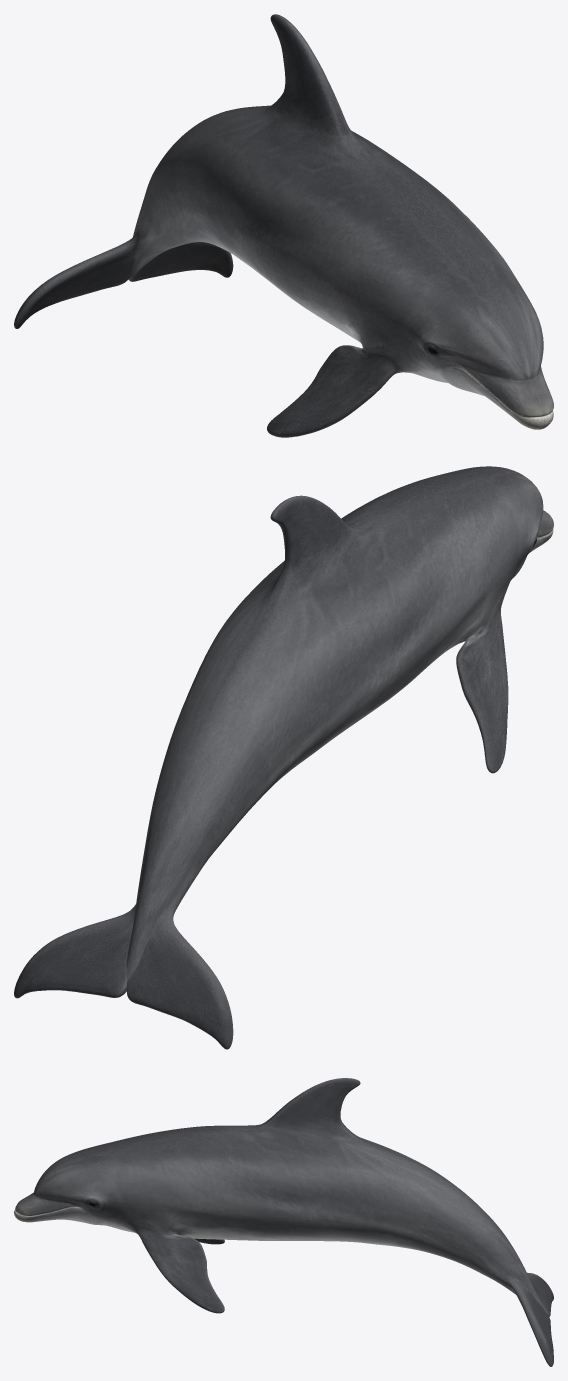
File: dolphin.glb
3 renders of one model, top to bottom at view 1: azimuth 30°, elevation 25°; view 2: azimuth 150°, elevation 25°; view 3: azimuth 270°, elevation 25°, orthographic. The views are drawn at different scales.
Visible parts, largest first — view 1: Mesh_0; view 2: Mesh_0; view 3: Mesh_0.
Part boxes in pixels (x1,y1,x2,y2): Mesh_0: [14, 14, 553, 437]; Mesh_0: [14, 466, 553, 1049]; Mesh_0: [14, 1078, 553, 1366].
Size of the model in its own units: 0.5907 by 0.9951 by 1.9.
Materials: 1 (1 with a texture image).
